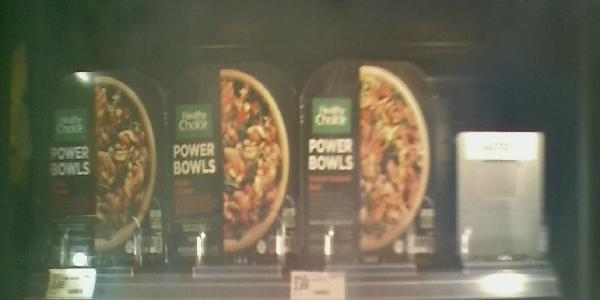pizza1: (299, 57, 441, 264), (37, 66, 170, 270), (172, 61, 297, 267)
